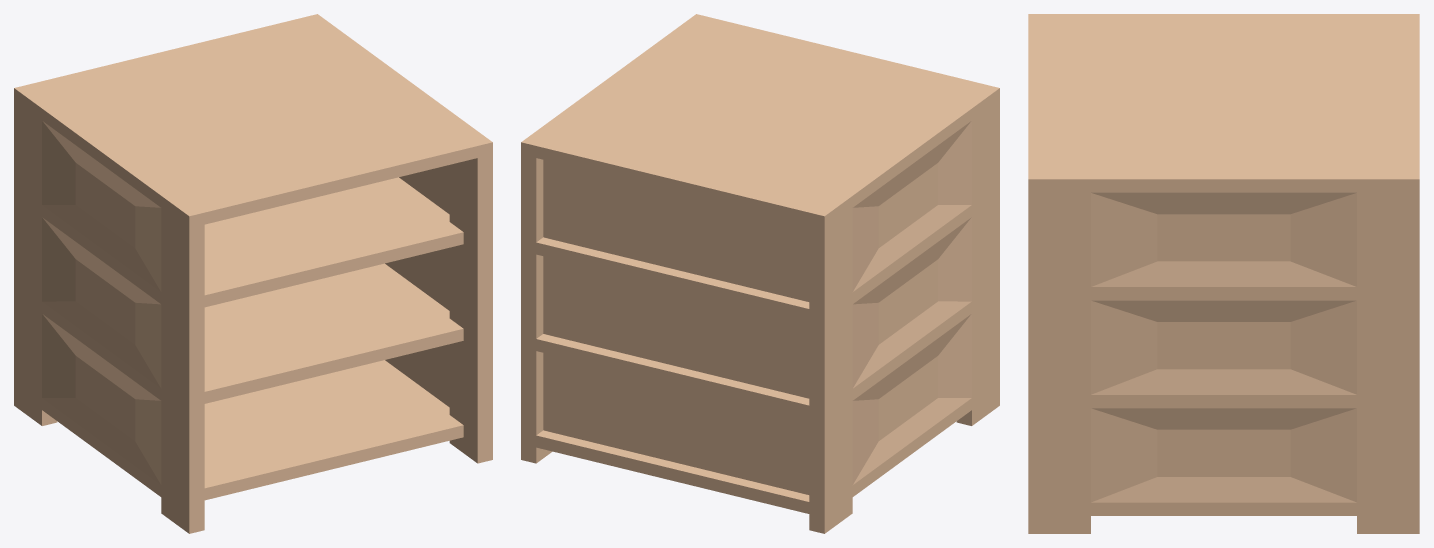
File: kn-bookcase-closed-wide.glb
3 renders of one model, left to right at view 1: azimuth 30°, elevation 25°; view 2: azimuth 150°, elevation 25°; view 3: azimuth 270°, elevation 25°, orthographic. The views are drawn at different scales.
Visible parts, largest first — view 1: bookcaseClosedWide(Clone); view 2: bookcaseClosedWide(Clone); view 3: bookcaseClosedWide(Clone).
Part boxes in pixels (box(x1,y1,x2,y2)): bookcaseClosedWide(Clone): box(14, 14, 492, 533); bookcaseClosedWide(Clone): box(521, 14, 999, 533); bookcaseClosedWide(Clone): box(1028, 14, 1419, 533).
Size of the model in its own units: 1 by 1 by 1.
